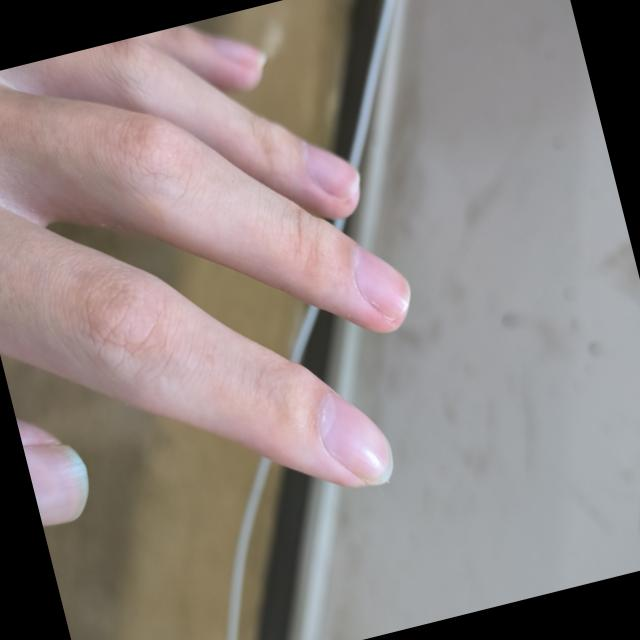Nail: (319, 394, 390, 485), (24, 445, 87, 528), (352, 247, 407, 319), (303, 146, 358, 198), (212, 39, 266, 69)
